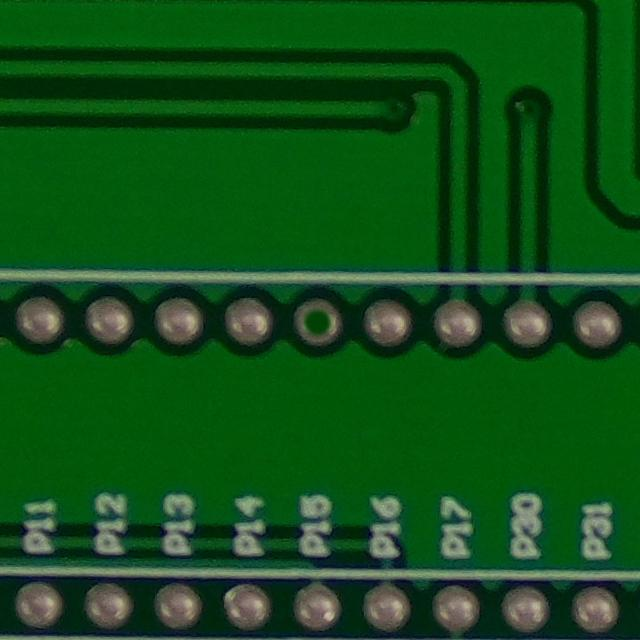missing_hole: (288, 283, 353, 357)
